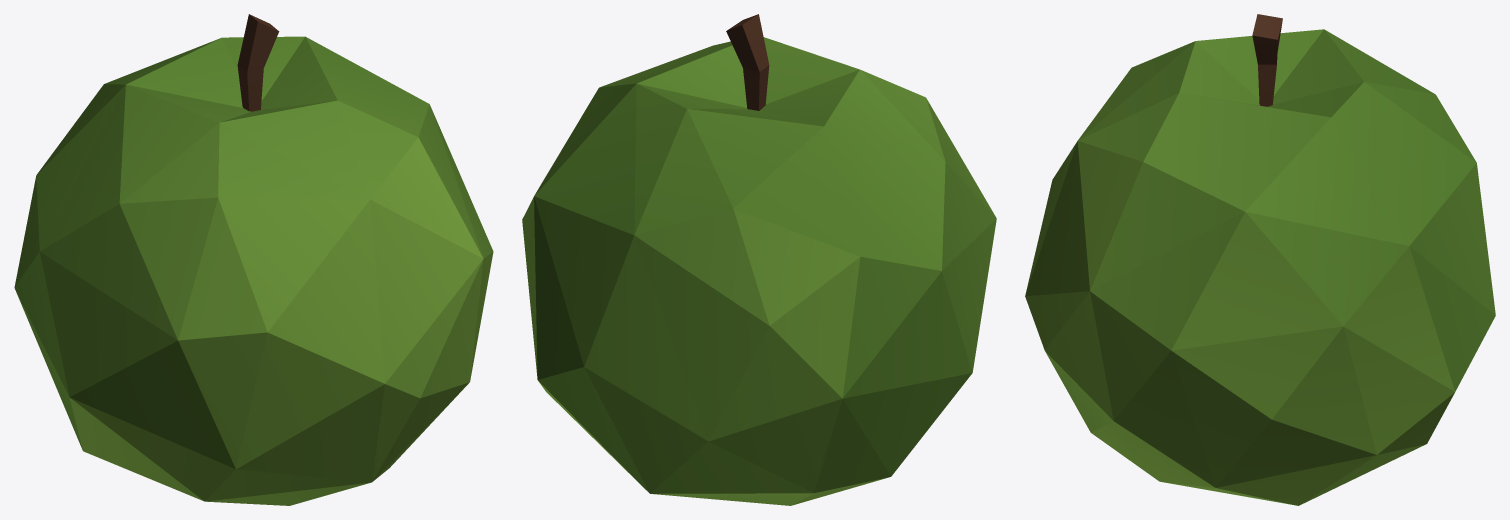
Rendered from GreenApple.fbx.
3 views of the same model, side by side, from view 1: azimuth 30°, elevation 25°; view 2: azimuth 150°, elevation 25°; view 3: azimuth 270°, elevation 25° (orthographic).
Visible parts, largest first — view 1: Cube.009; view 2: Cube.009; view 3: Cube.009.
Boxes of the visible parts, box(x1,y1,x2,y2) form: Cube.009: box(14, 14, 493, 505); Cube.009: box(522, 14, 996, 505); Cube.009: box(1025, 14, 1495, 505).
Bounding box in the file's own units: 34.01 × 37.83 × 34.81.
